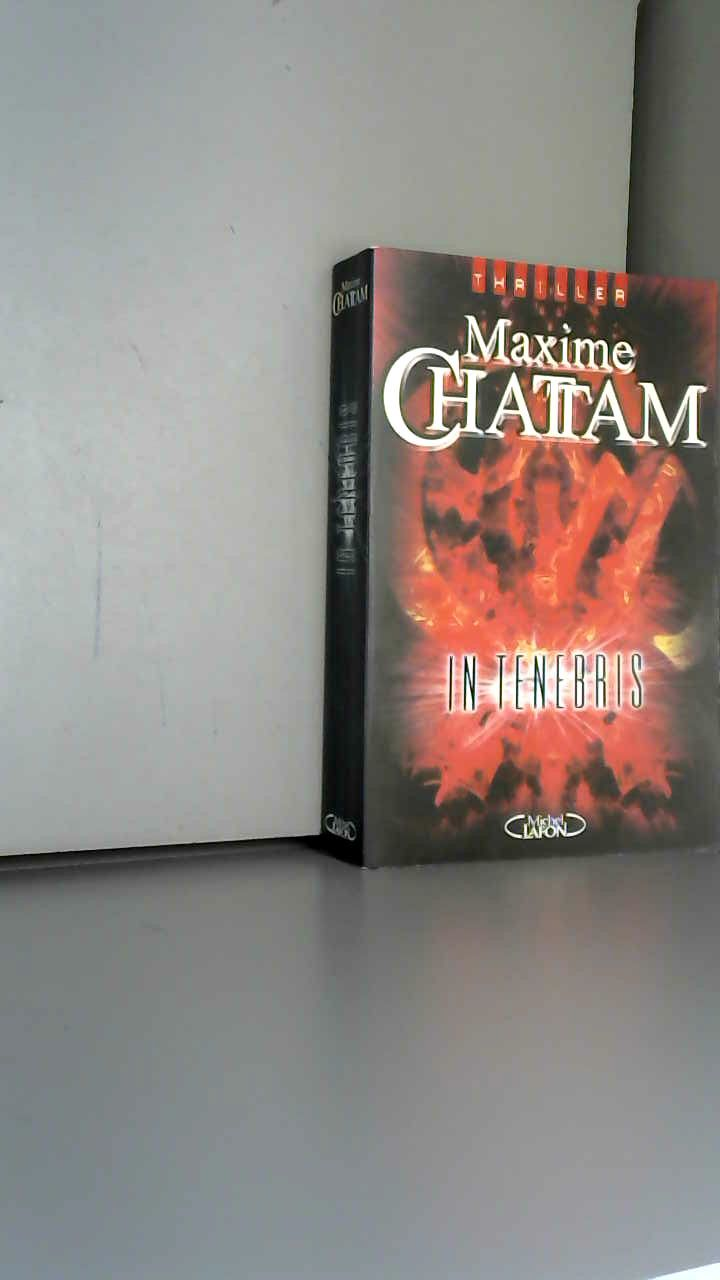book: (300, 220, 720, 887)
